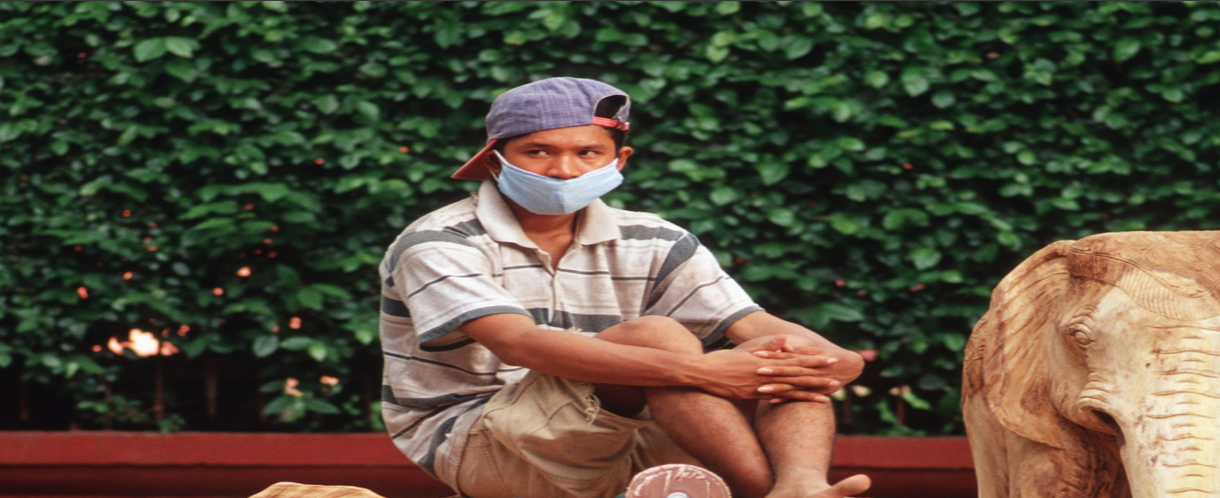mask_weared_incorrect: (460, 75, 640, 227)
